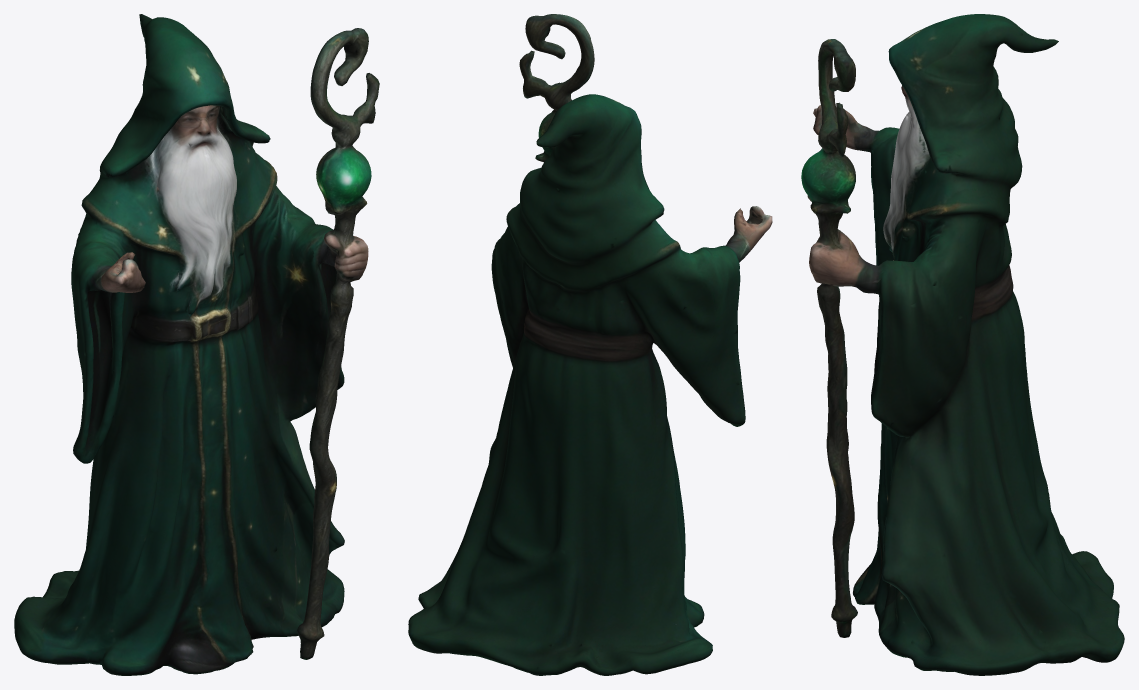
File: dark_fantasy_green_santa_wizard.glb
3 views of the same model, side by side, from view 1: azimuth 30°, elevation 25°; view 2: azimuth 150°, elevation 25°; view 3: azimuth 270°, elevation 25° (orthographic). The views are drawn at different scales.
Parts seen in each view (by area): view 1: Object_4; view 2: Object_4; view 3: Object_4.
Part boxes in pixels (x1=…): Object_4: x1=14, y1=14, x2=379, y2=675; Object_4: x1=408, y1=14, x2=772, y2=675; Object_4: x1=801, y1=14, x2=1124, y2=675.
Bounding box in the file's own units: 1.04 × 2 × 0.9628.
Materials: 1 (1 with a texture image).
